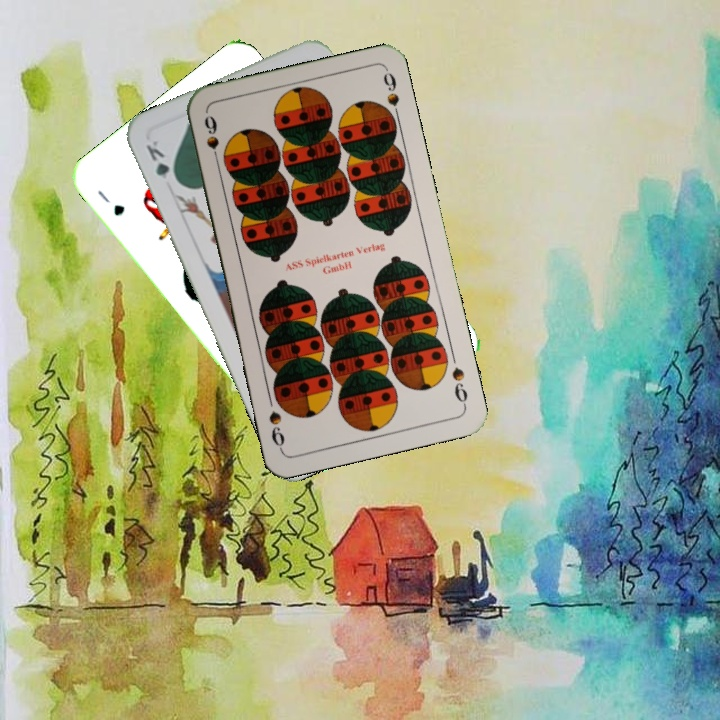GK: (142, 136, 182, 188)
GU: (93, 186, 128, 219)
S9: (200, 112, 223, 169), (448, 363, 470, 410)
